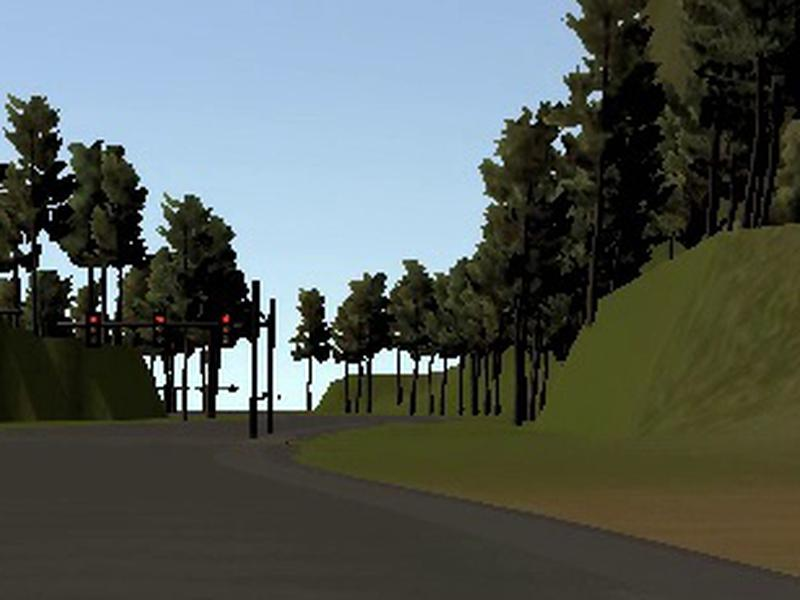Red: (85, 312, 102, 348), (218, 310, 234, 347), (154, 313, 166, 347)
